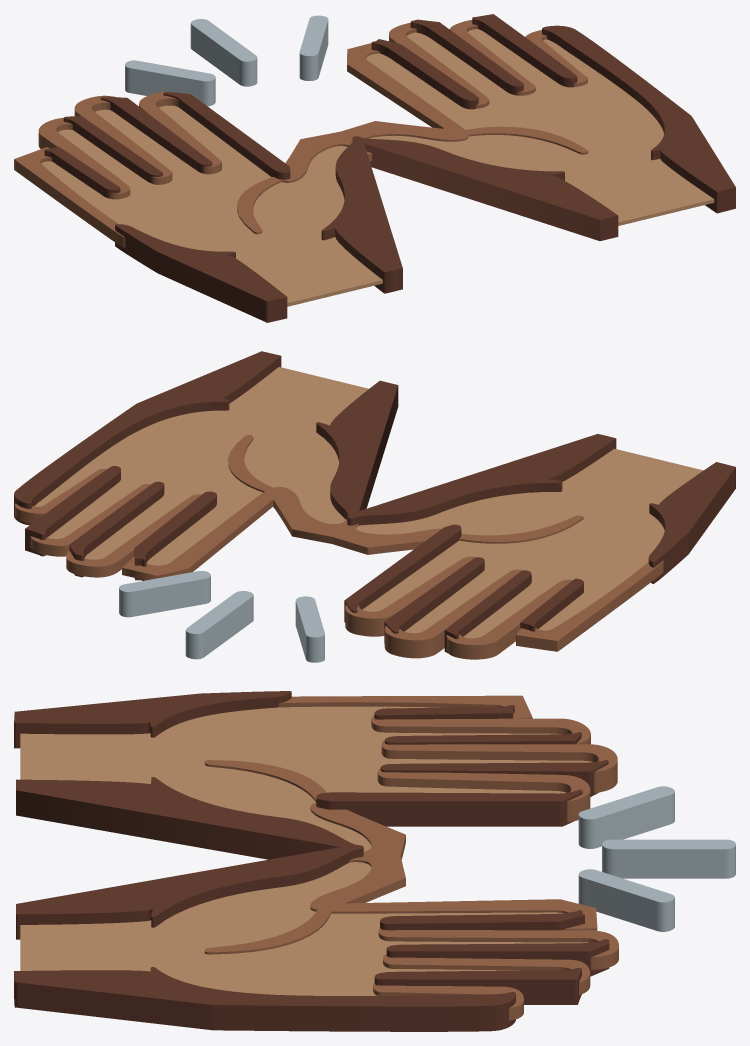
Rendered from emoji_u1f64c_1f3fd.glb.
3 views of the same model, one above another, from view 1: azimuth 30°, elevation 25°; view 2: azimuth 150°, elevation 25°; view 3: azimuth 270°, elevation 25° (orthographic). The views are drawn at different scales.
Visible parts, largest first — view 1: emoji_u1f64c_1f3fd; view 2: emoji_u1f64c_1f3fd; view 3: emoji_u1f64c_1f3fd.
Boxes of the visible parts, x1,y1,x2,y2 form: emoji_u1f64c_1f3fd: (14,14,735,322); emoji_u1f64c_1f3fd: (14,351,735,662); emoji_u1f64c_1f3fd: (14,691,735,1031).
Size of the model in its own units: 0.0322 by 0.0014 by 0.031.
